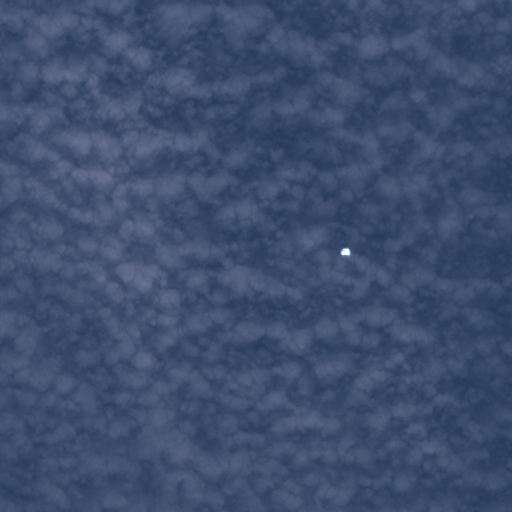Iceberg: (340, 248, 350, 255)
